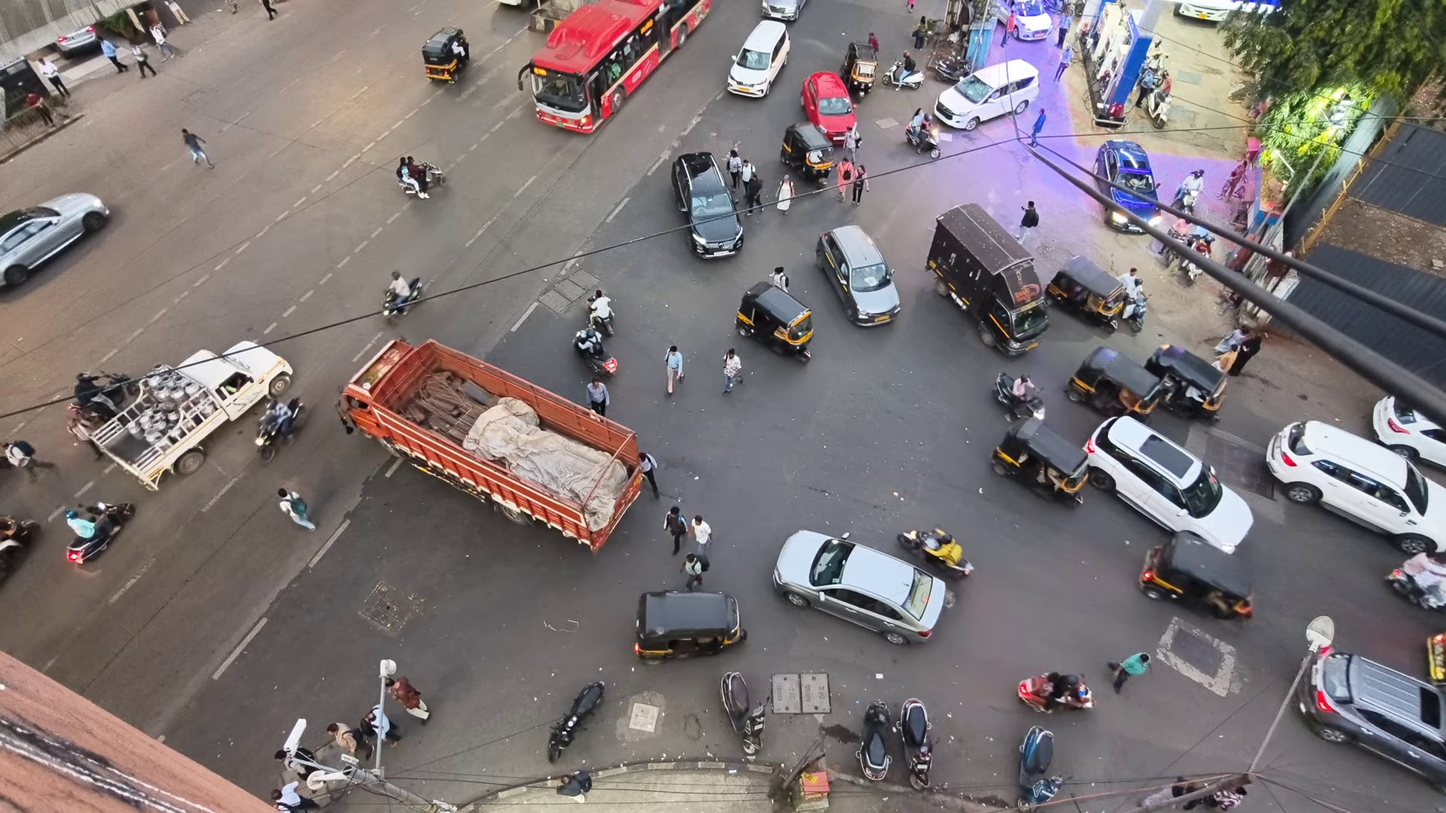driving: (339, 340, 642, 550), (90, 342, 292, 489), (518, 0, 712, 132), (1265, 421, 1445, 554), (1084, 416, 1252, 553), (1296, 647, 1445, 792), (773, 530, 946, 644), (927, 203, 1047, 355), (0, 193, 109, 287), (1139, 532, 1252, 619), (991, 416, 1089, 504), (816, 224, 900, 326), (633, 591, 746, 662), (934, 59, 1038, 131), (672, 153, 743, 258), (1066, 346, 1163, 416), (1094, 140, 1162, 233), (1144, 344, 1227, 419), (736, 281, 813, 361), (1045, 255, 1124, 331), (1372, 397, 1445, 467), (726, 19, 789, 97), (547, 681, 605, 762), (66, 502, 135, 565), (721, 671, 767, 759), (800, 72, 856, 144), (1018, 726, 1064, 810), (69, 370, 139, 425), (898, 528, 974, 578), (895, 697, 932, 790), (780, 121, 834, 184), (255, 397, 307, 461), (1386, 553, 1445, 609), (1017, 674, 1094, 712), (856, 701, 891, 781), (422, 26, 469, 83), (993, 371, 1045, 420), (0, 516, 39, 580), (994, 0, 1053, 41), (572, 324, 618, 376), (1175, 0, 1279, 22), (1179, 226, 1215, 285), (381, 276, 423, 324), (839, 43, 877, 94), (398, 162, 447, 197), (905, 114, 941, 158), (881, 59, 923, 90), (56, 26, 99, 56), (1143, 86, 1172, 129), (1121, 289, 1149, 333), (588, 289, 614, 336), (761, 0, 806, 20)
walking: (384, 676, 429, 724), (5, 440, 54, 482), (326, 723, 373, 760), (359, 703, 401, 744), (1108, 652, 1149, 693), (278, 488, 316, 530), (1228, 330, 1261, 376), (270, 781, 319, 811), (275, 747, 317, 781), (38, 57, 71, 98), (182, 128, 214, 167), (664, 506, 688, 555), (557, 769, 592, 802), (1016, 200, 1039, 243), (639, 450, 659, 498), (100, 38, 128, 72), (680, 553, 705, 591), (1134, 68, 1157, 108), (665, 346, 684, 394), (150, 23, 175, 59), (586, 377, 609, 416), (26, 93, 53, 126), (1213, 328, 1245, 355), (131, 44, 156, 77), (723, 349, 741, 394), (691, 514, 711, 553), (837, 157, 854, 200), (745, 170, 761, 215), (727, 148, 743, 190), (777, 175, 794, 214), (852, 164, 868, 205), (1054, 46, 1072, 81), (844, 124, 861, 160), (1029, 108, 1045, 146), (1057, 11, 1073, 46), (770, 266, 789, 292), (912, 17, 927, 49), (740, 159, 755, 189), (1006, 9, 1017, 39), (261, 0, 276, 20), (867, 32, 880, 53)
